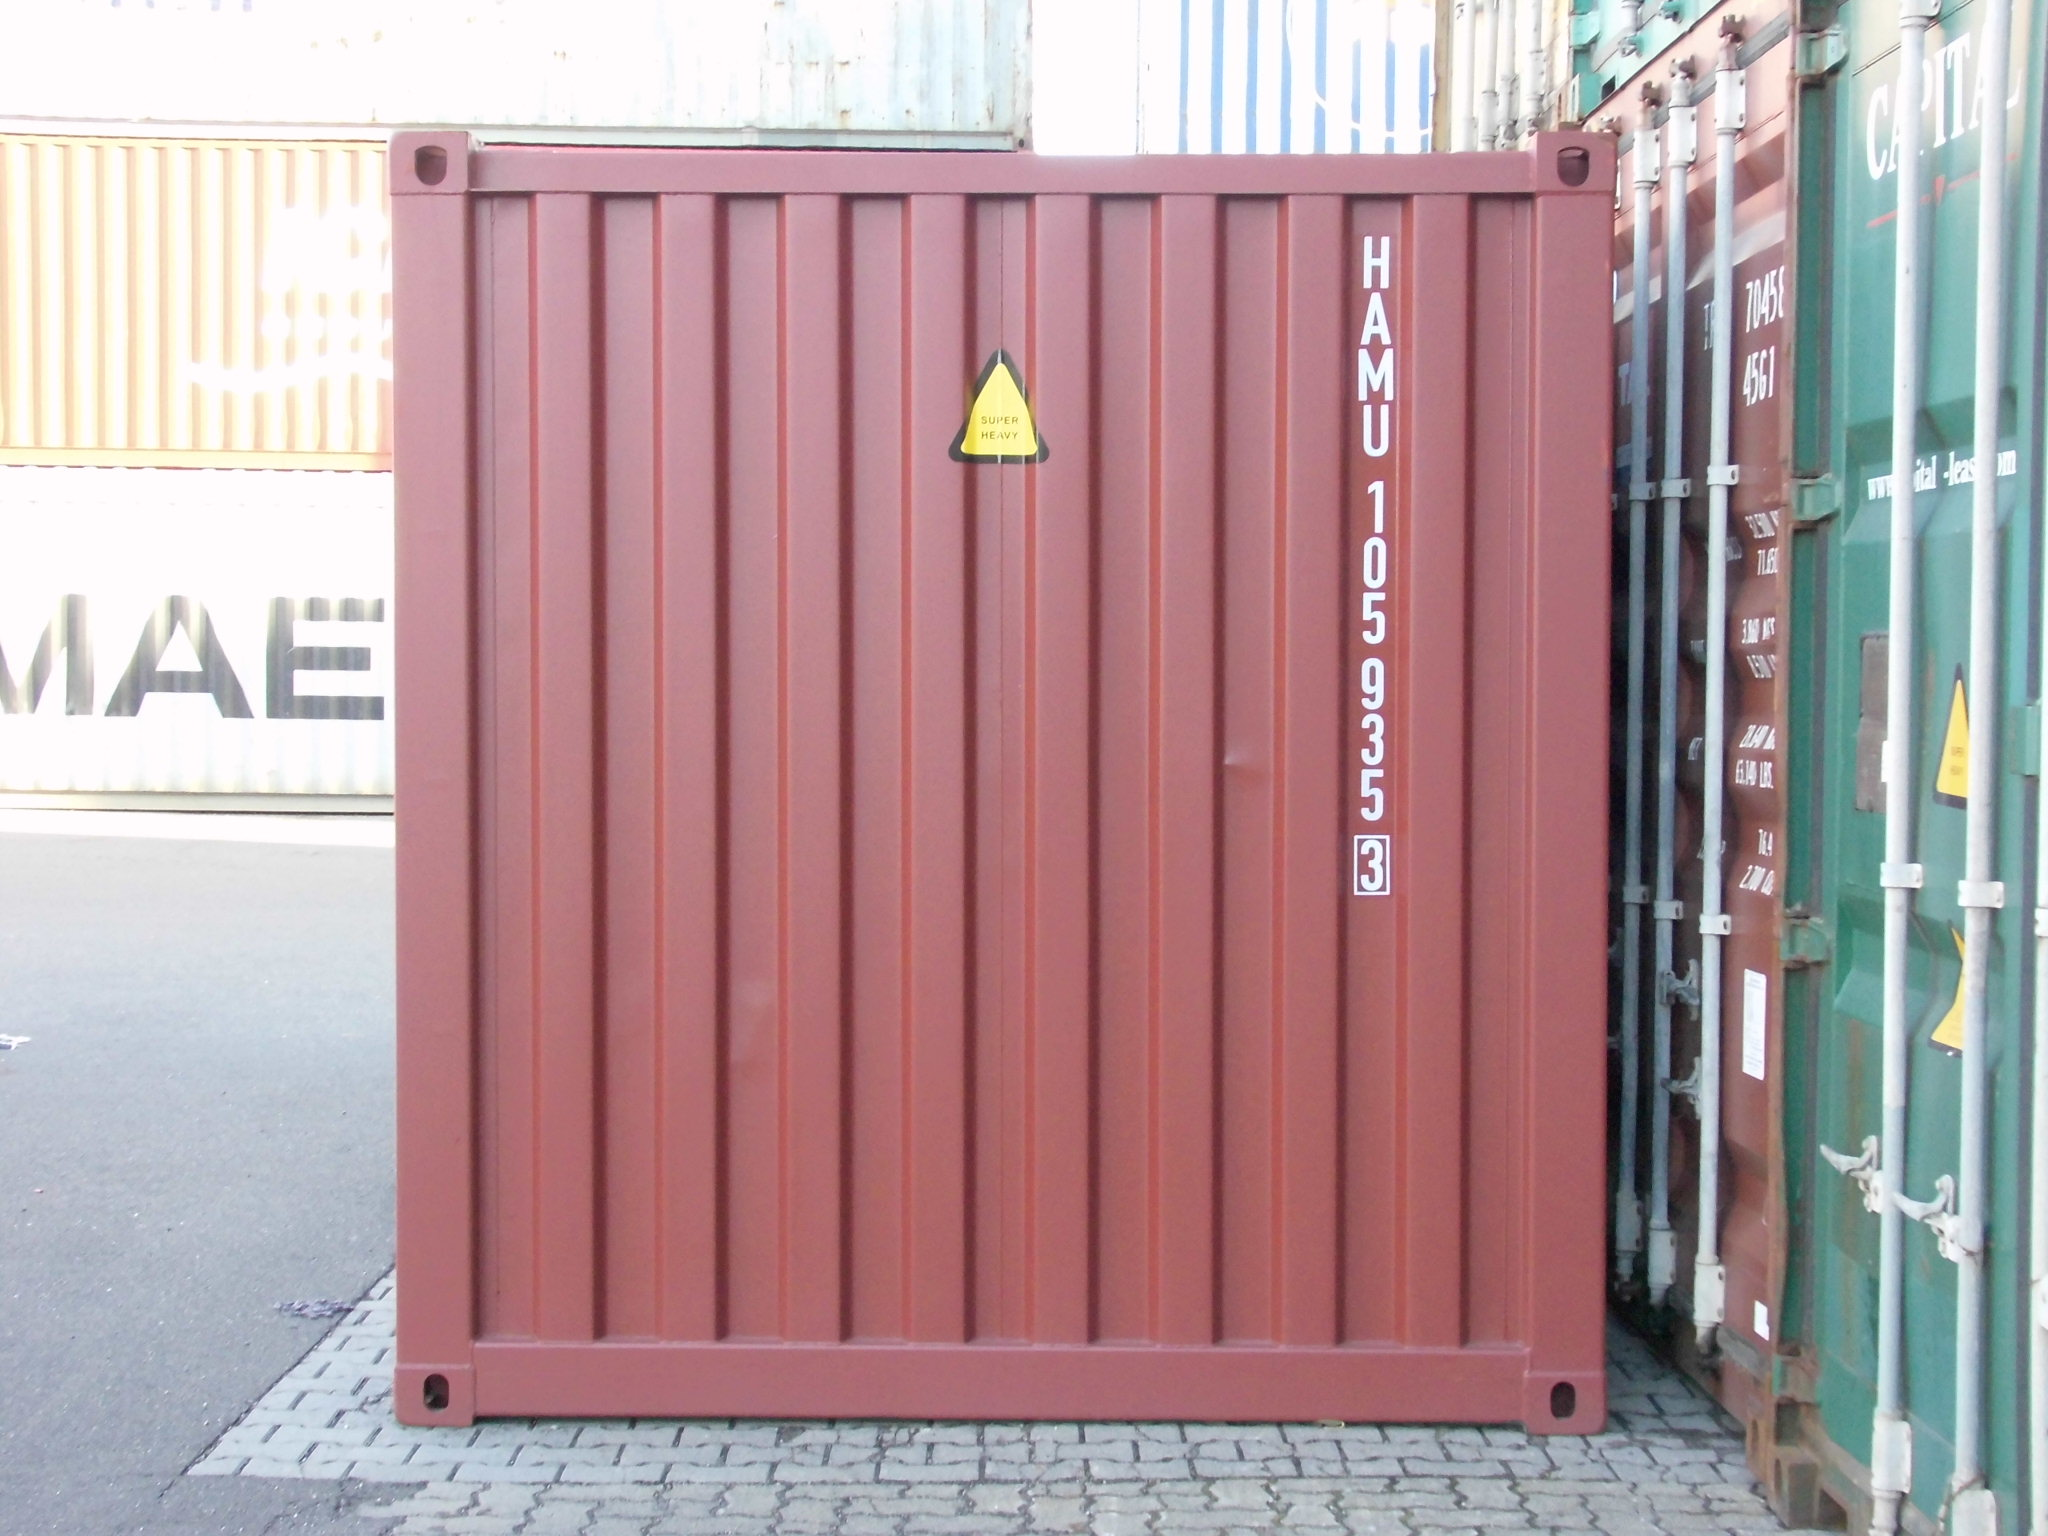container_no_door: (385, 123, 1609, 1442)
